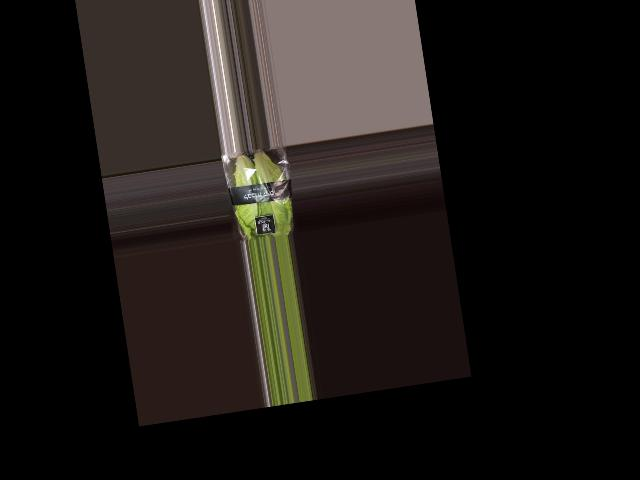lettuce: (221, 145, 294, 242)
